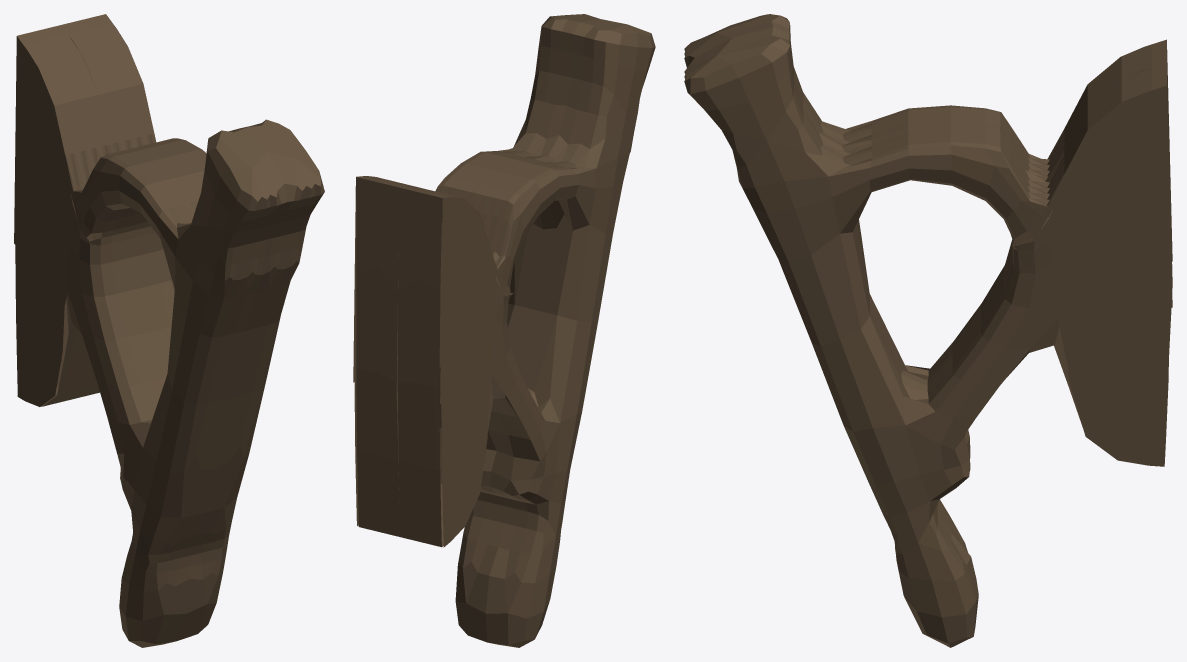
File: Torch.fbx
The picture shows the model from 3 angles, left to right: view 1: azimuth 30°, elevation 25°; view 2: azimuth 150°, elevation 25°; view 3: azimuth 270°, elevation 25°; orthographic projection. The views are drawn at different scales.
Visible parts, largest first — view 1: Cube; view 2: Cube; view 3: Cube.
Boxes of the visible parts, left/top/right/bottom form: Cube: left=14, top=14, right=324, bottom=647; Cube: left=353, top=14, right=655, bottom=647; Cube: left=684, top=14, right=1172, bottom=647.
Size of the model in its own units: 200 by 1239 by 896.
